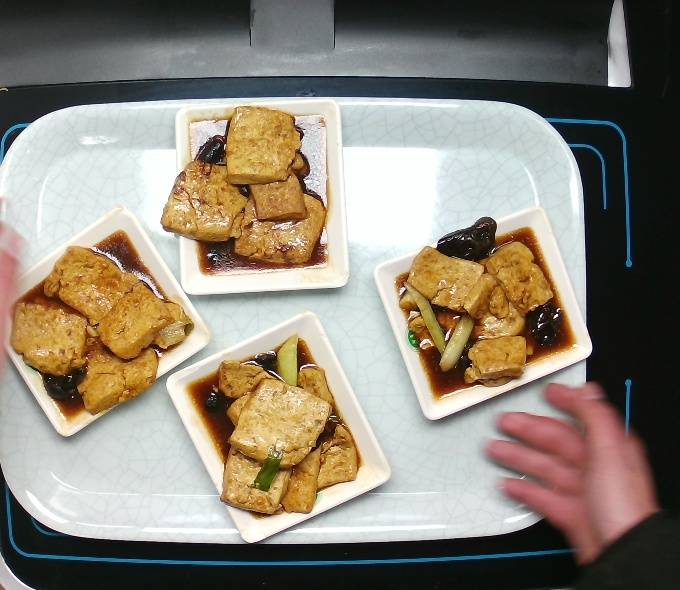wcq-JiaChangDouFu: (6, 224, 199, 423), (391, 210, 582, 404), (182, 332, 370, 522), (157, 104, 337, 279)
